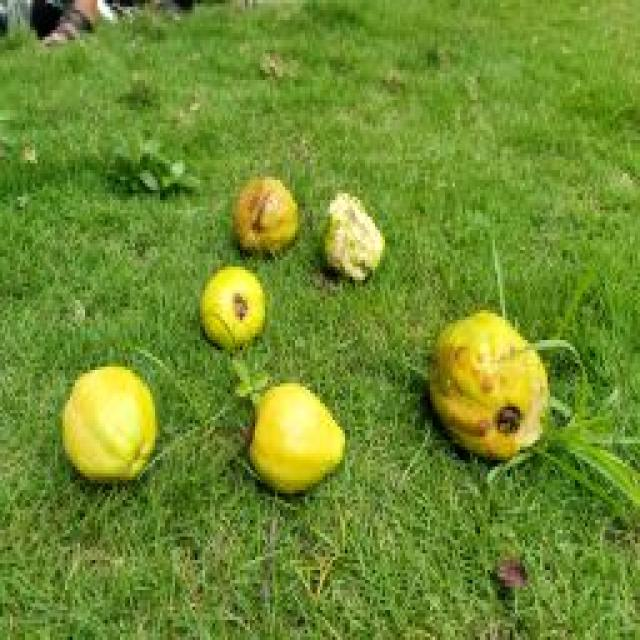Organik: (403, 285, 572, 499), (49, 352, 173, 499), (234, 376, 360, 505), (188, 266, 291, 358), (220, 178, 304, 261)
